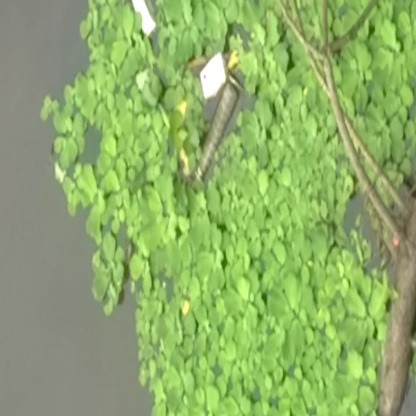branch: (307, 56, 405, 238)
